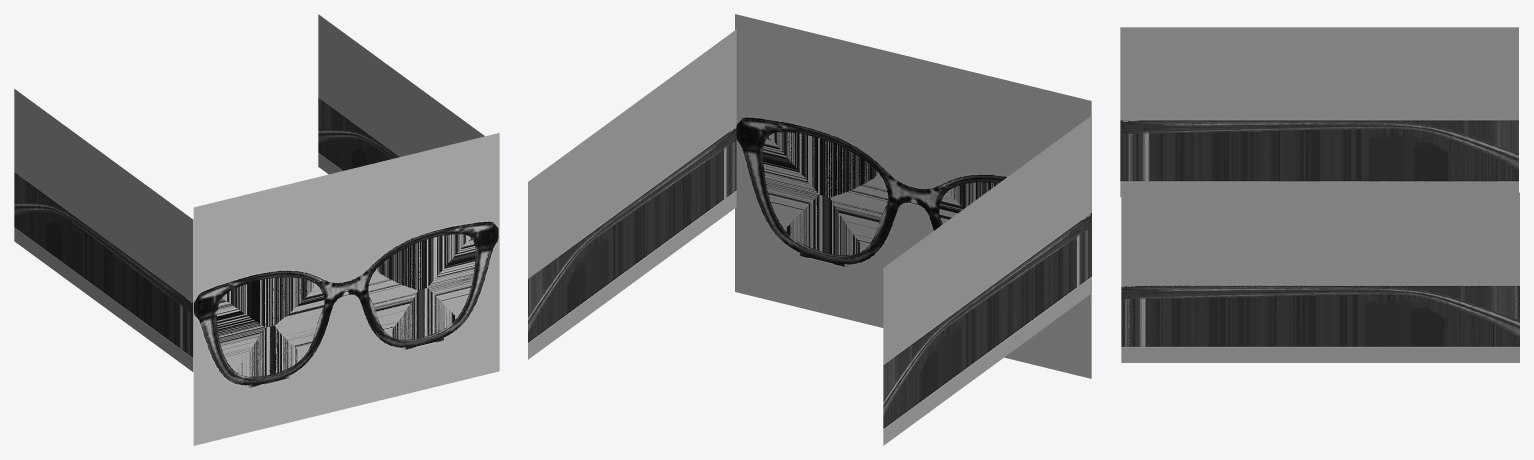
The model's file is broadway-flex-22_f4.glb.
3 views of the same model, side by side, from view 1: azimuth 30°, elevation 25°; view 2: azimuth 150°, elevation 25°; view 3: azimuth 270°, elevation 25° (orthographic). The views are drawn at different scales.
Visible parts, largest first — view 1: Front, Right, Left; view 2: Front, Left, Right; view 3: Left, Right.
Part boxes in pixels (left/top/right/bottom): Front: left=193, top=133, right=499, bottom=445; Right: left=14, top=89, right=193, bottom=371; Left: left=318, top=14, right=484, bottom=174; Front: left=735, top=14, right=1091, bottom=378; Left: left=528, top=29, right=736, bottom=359; Right: left=883, top=115, right=1091, bottom=445; Left: left=1121, top=192, right=1519, bottom=362; Right: left=1120, top=27, right=1518, bottom=197.
Bounding box in the file's own units: 147 × 109 × 149.
4 materials, 4 textured.
